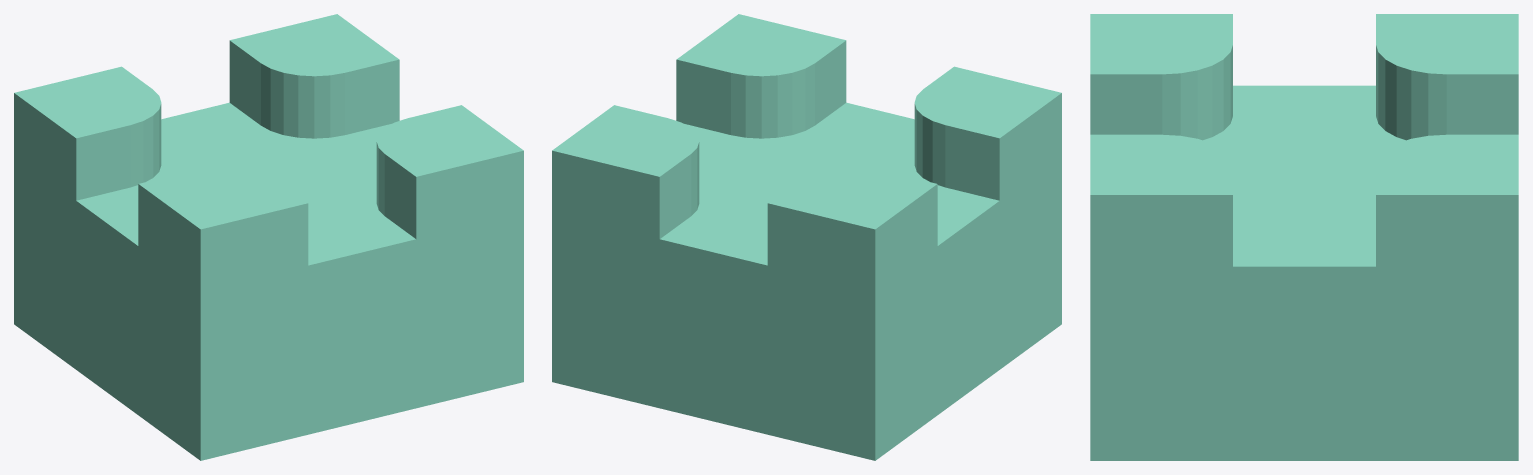
File: CrossBlock.fbx
3 renders of one model, left to right at view 1: azimuth 30°, elevation 25°; view 2: azimuth 150°, elevation 25°; view 3: azimuth 270°, elevation 25°, orthographic. The views are drawn at different scales.
Visible parts, largest first — view 1: Cross; view 2: Cross; view 3: Cross.
Boxes of the visible parts, x1,y1,x2,y2 form: Cross: (14,14,523,460); Cross: (552,14,1061,460); Cross: (1090,14,1518,460).
Bounding box in the file's own units: 400 × 274 × 400.
